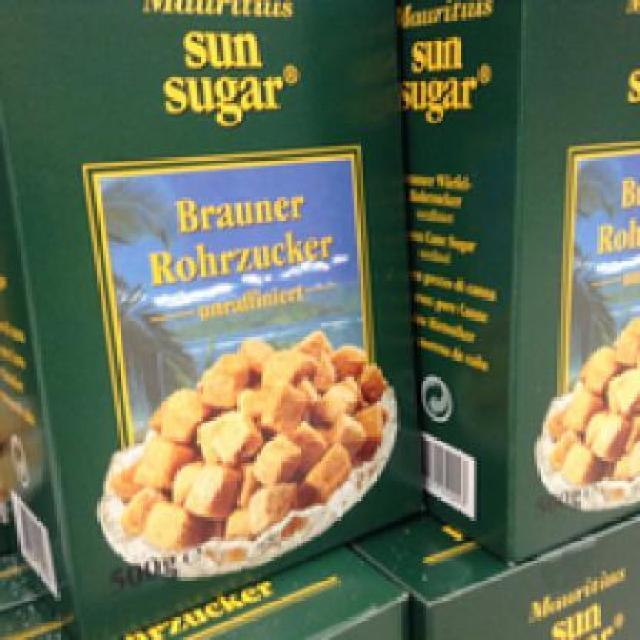Sugar: (0, 0, 435, 638), (400, 0, 634, 560)
